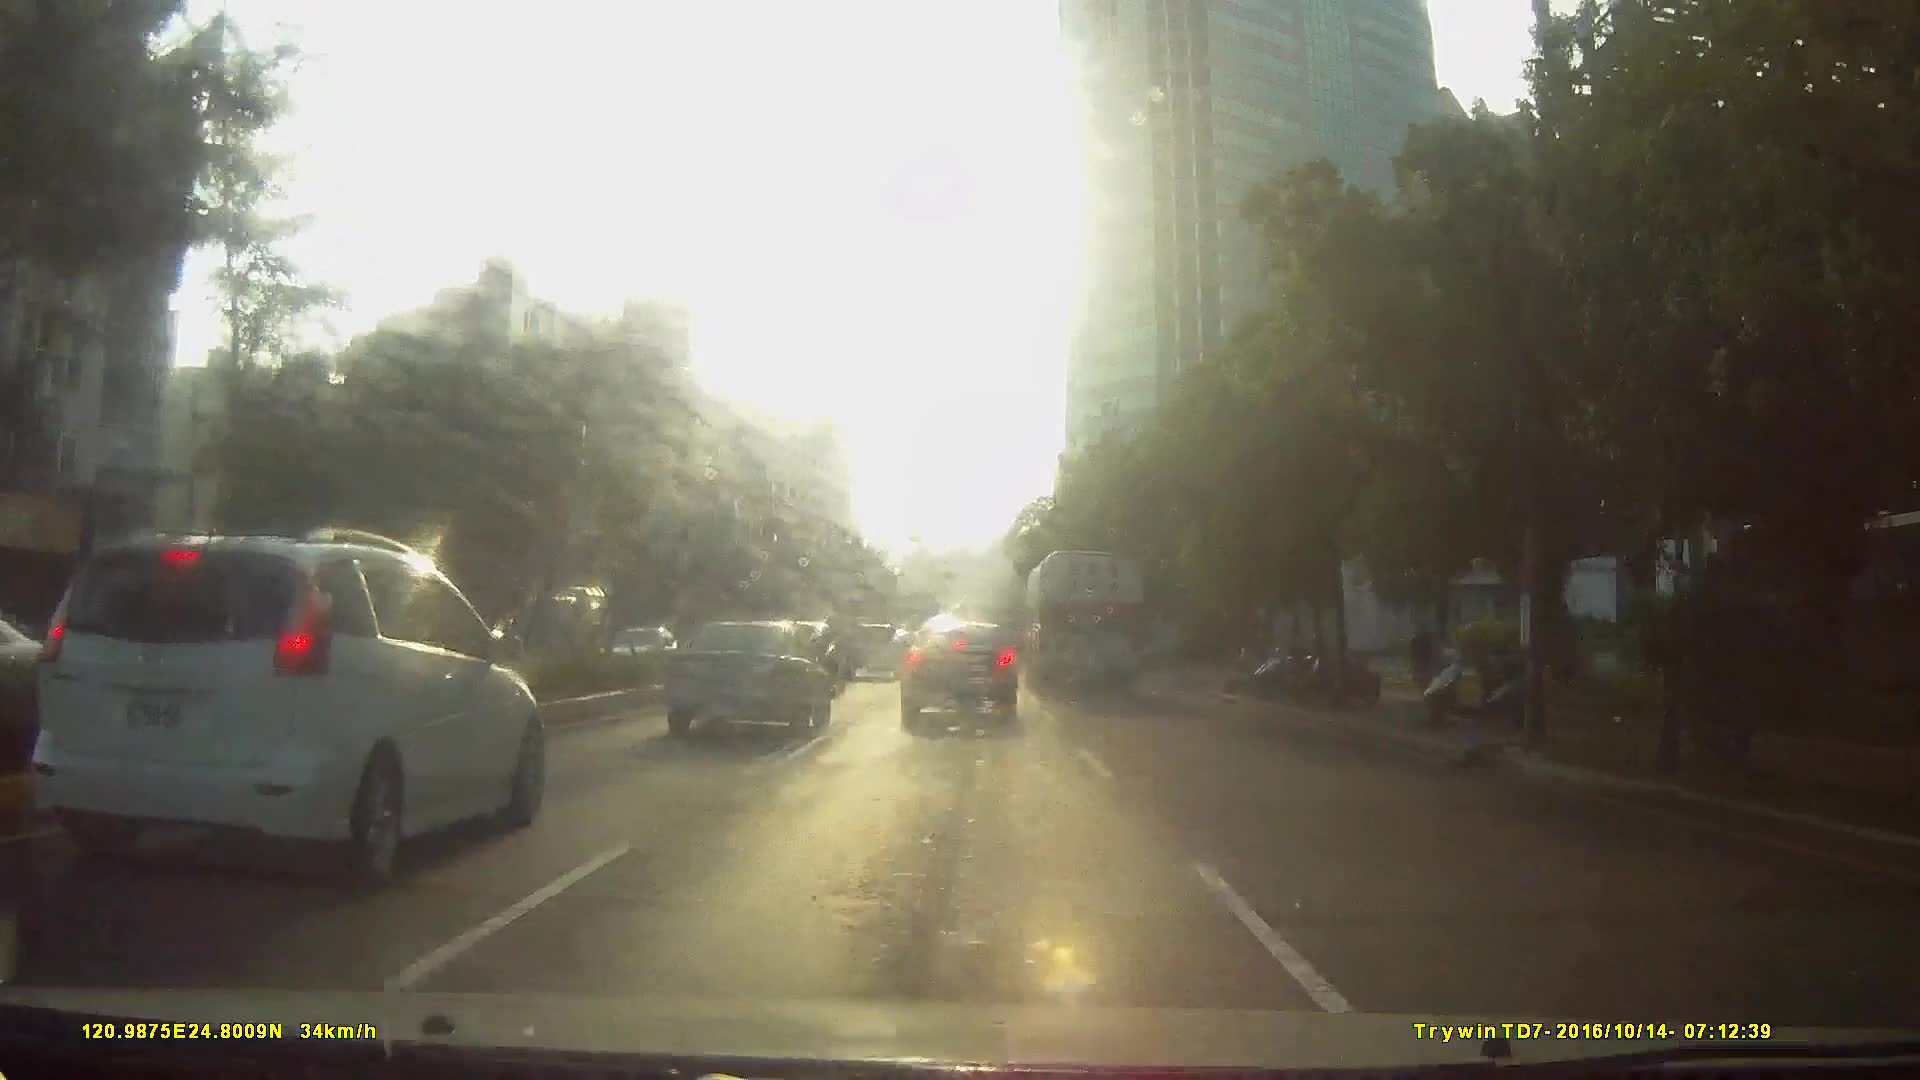pedestrian: (1406, 610, 1439, 703)
vehicle: (57, 508, 546, 893), (250, 556, 684, 868), (655, 612, 828, 737), (1021, 538, 1145, 692), (896, 617, 1022, 716), (502, 575, 601, 661), (840, 617, 902, 676)
